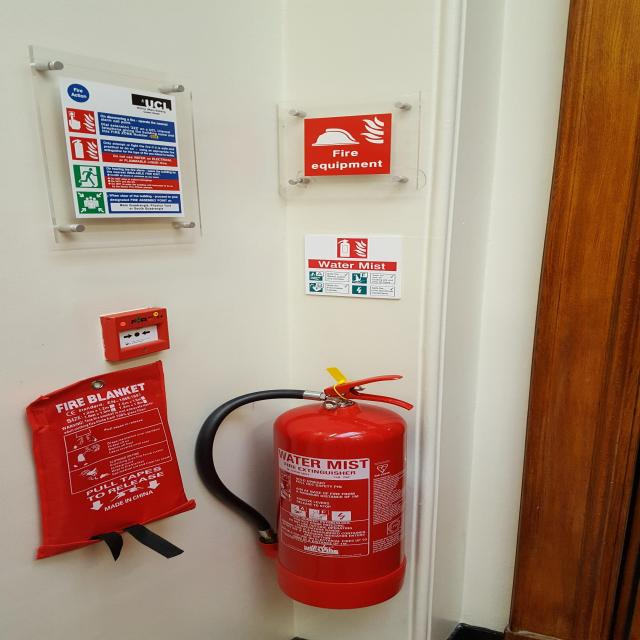fire_extinguisher: (184, 373, 418, 610)
